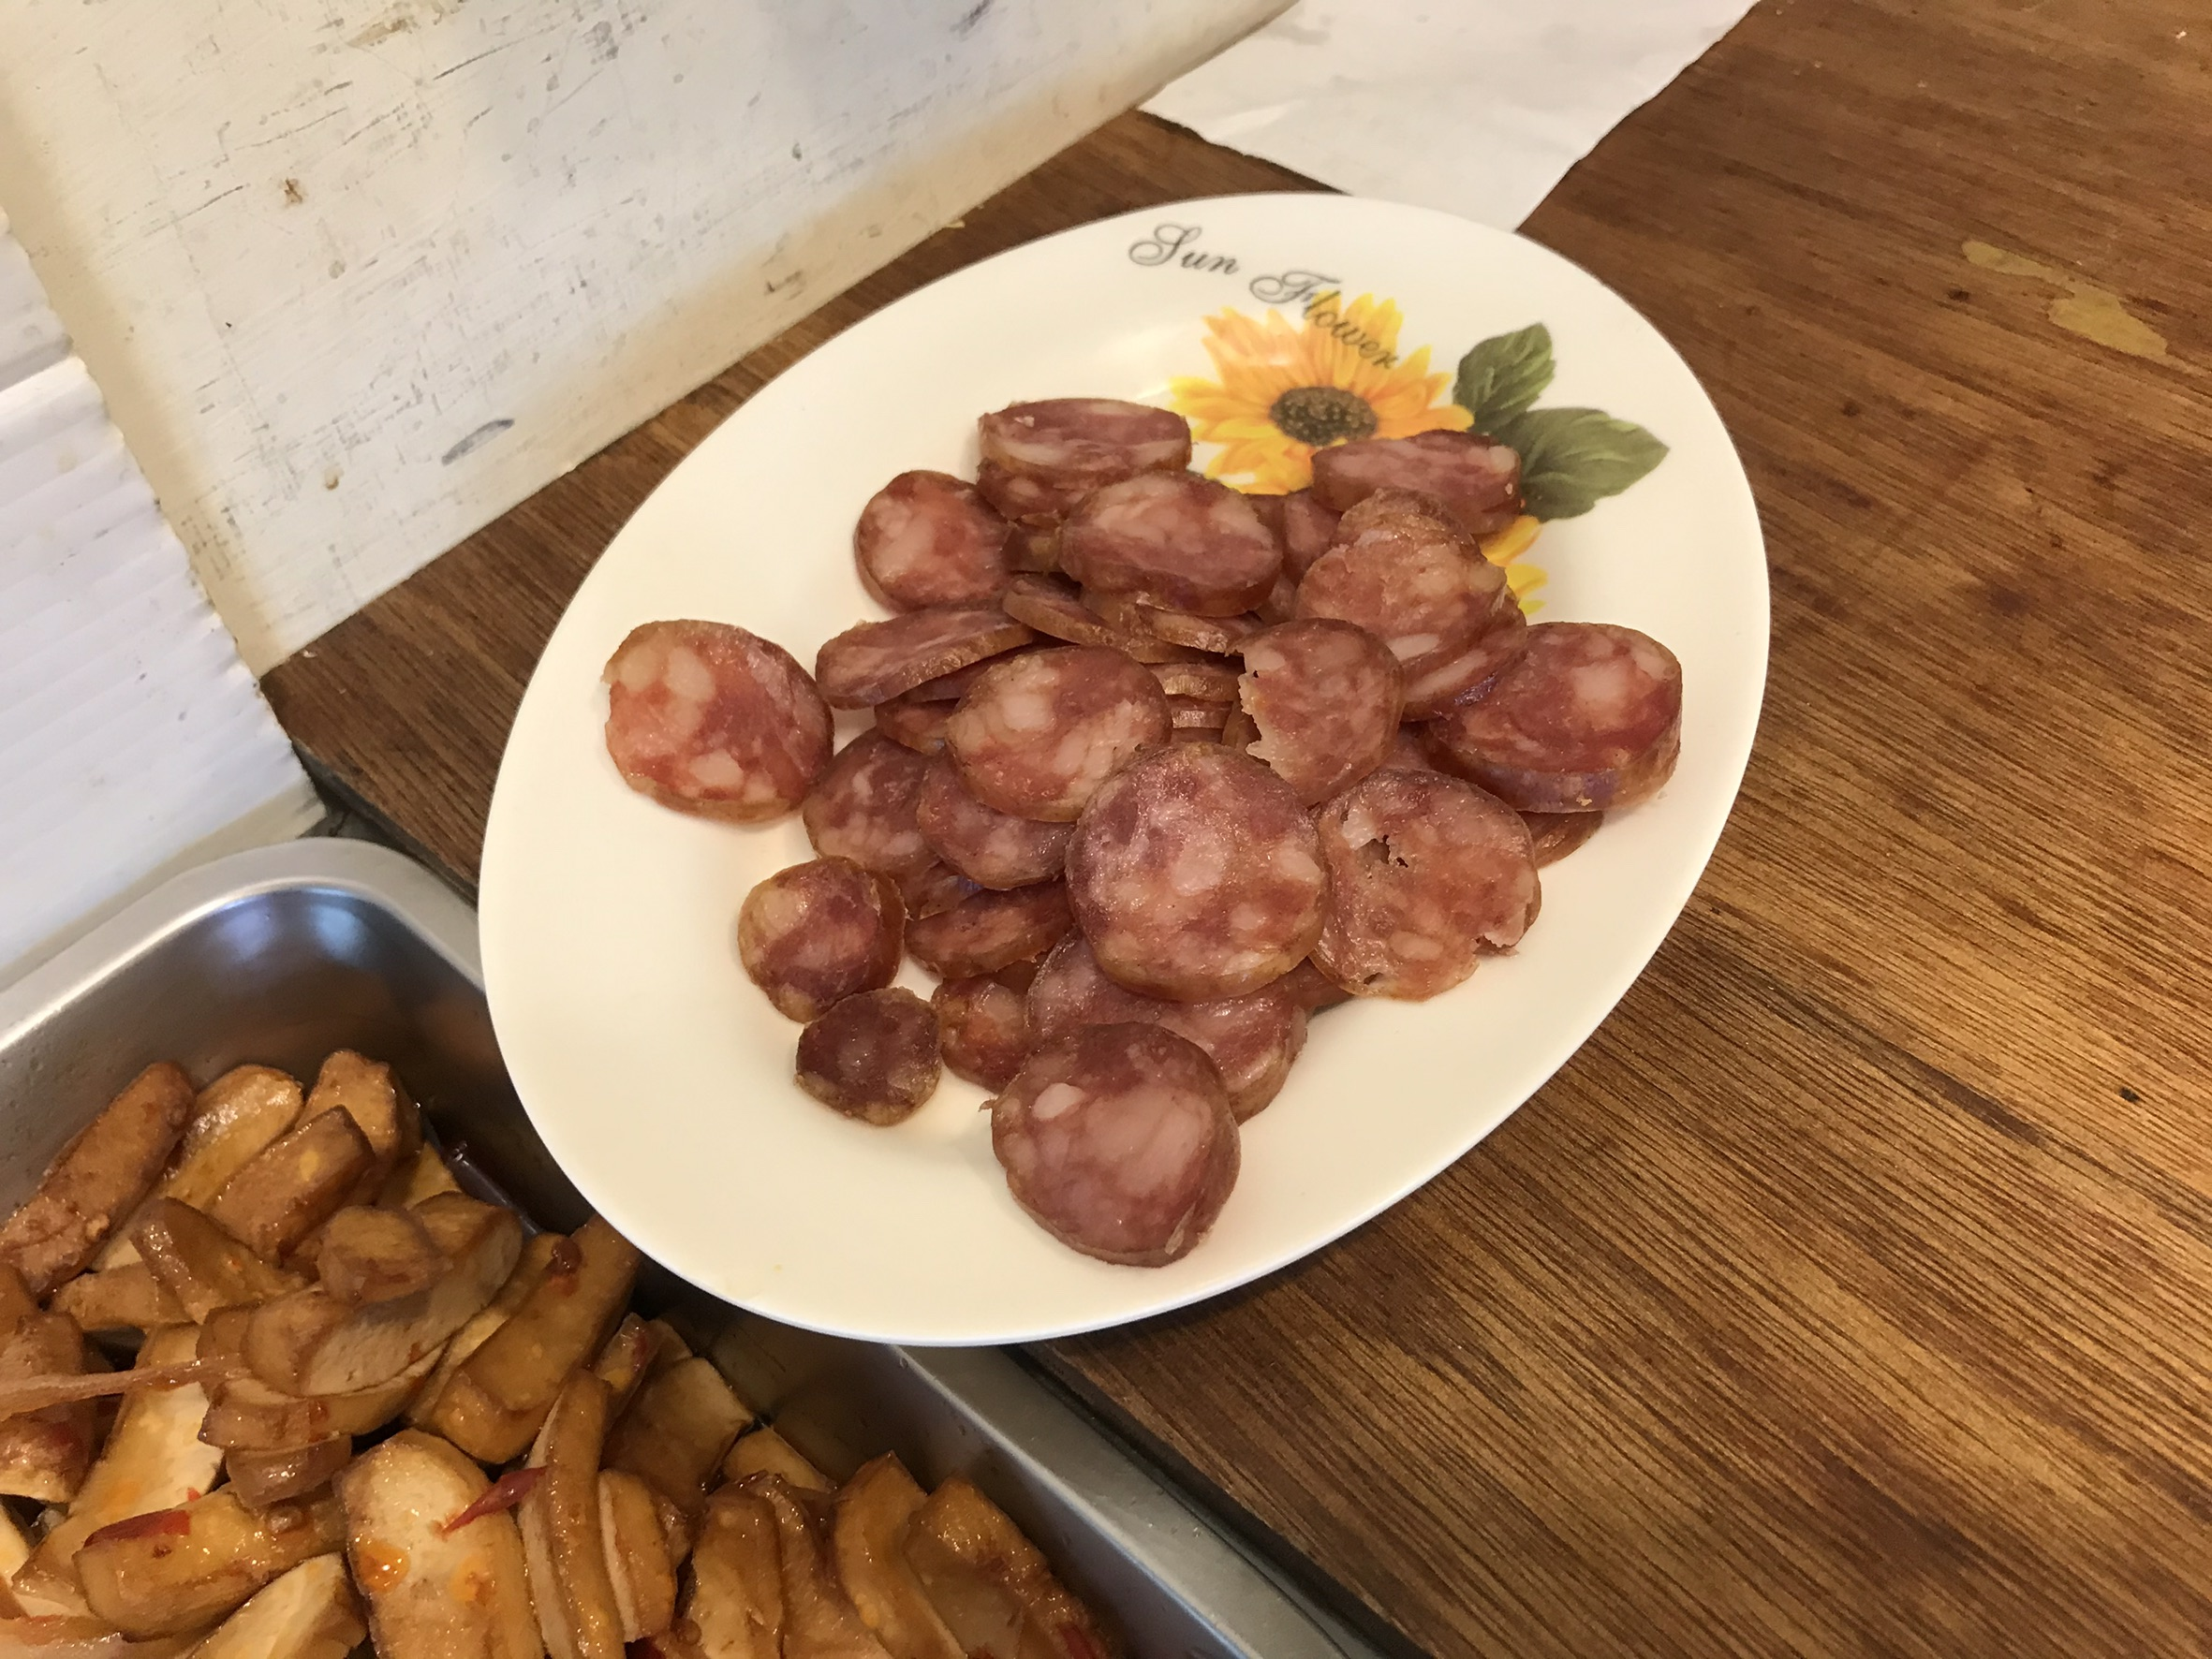chinese_sausage: (608, 399, 1680, 1267)
